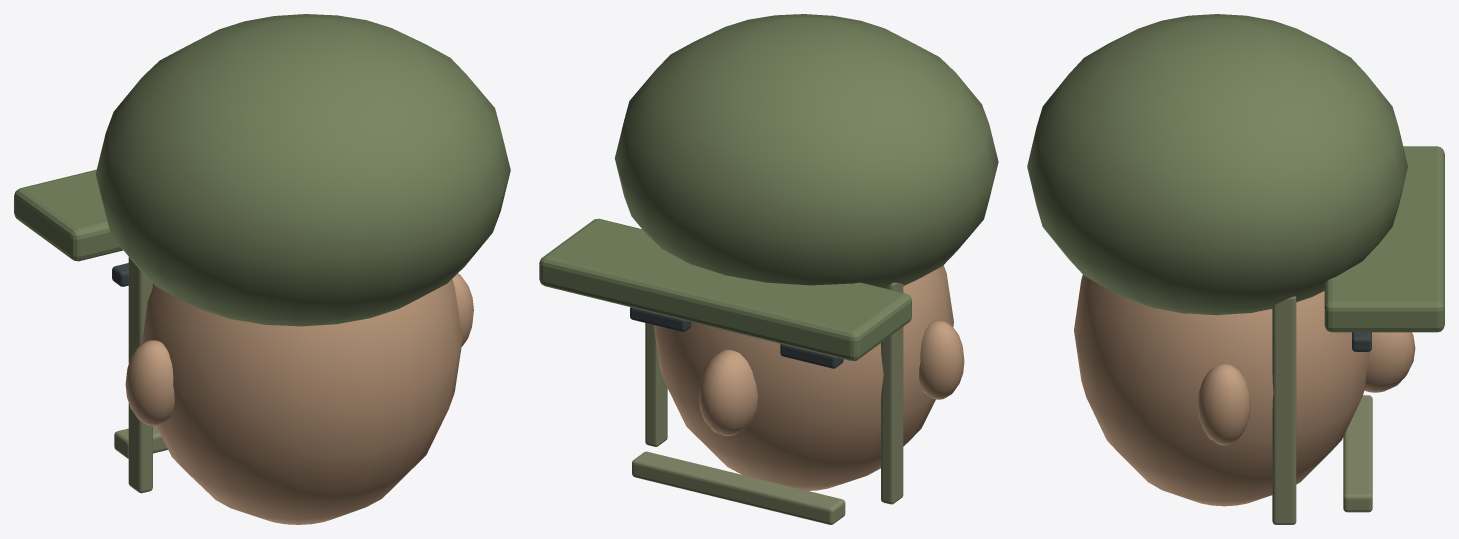
File: soldier_head.glb
3 views of the same model, side by side, from view 1: azimuth 30°, elevation 25°; view 2: azimuth 150°, elevation 25°; view 3: azimuth 270°, elevation 25° (orthographic). The views are drawn at different scales.
Parts seen in each view (by area): view 1: soldier_head; view 2: soldier_head; view 3: soldier_head.
Part boxes in pixels (x1,y1,x2,y2): soldier_head: (14, 14, 510, 524); soldier_head: (539, 14, 998, 524); soldier_head: (1027, 14, 1444, 524).
Bounding box in the file's own units: 0.3 × 0.375 × 0.3125.
